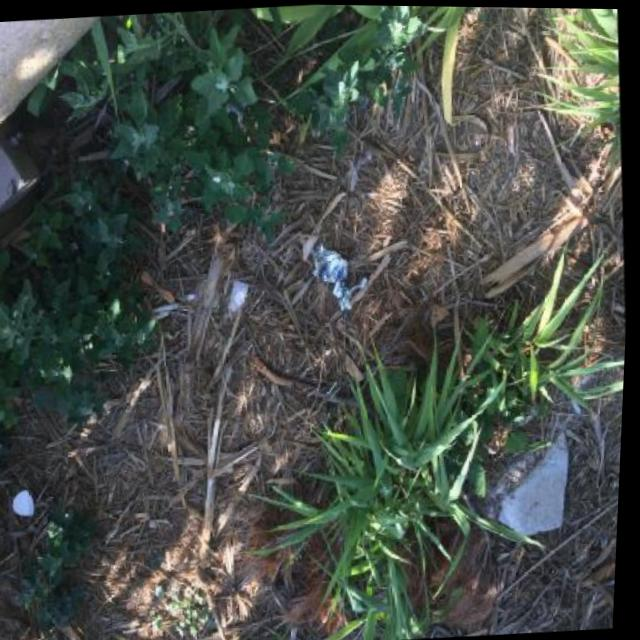paper: (227, 279, 252, 313)
plastic: (309, 239, 372, 315)
